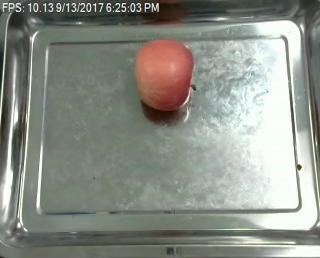apple: (135, 40, 195, 111)
